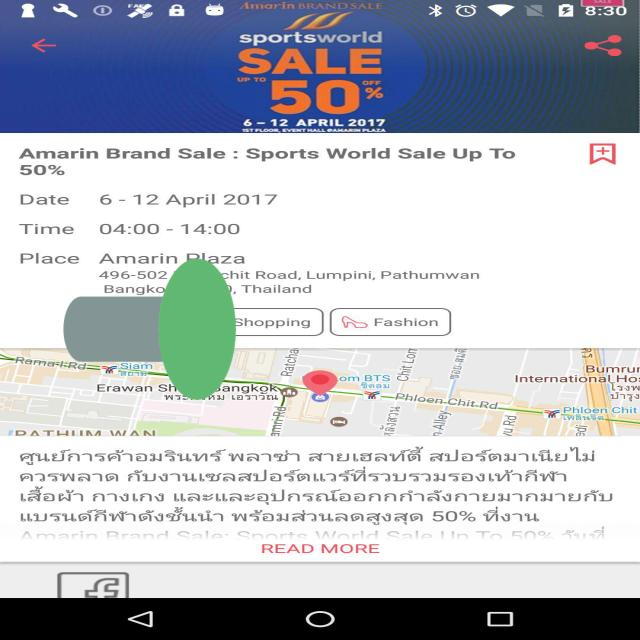social proof: (63, 172, 236, 486)
